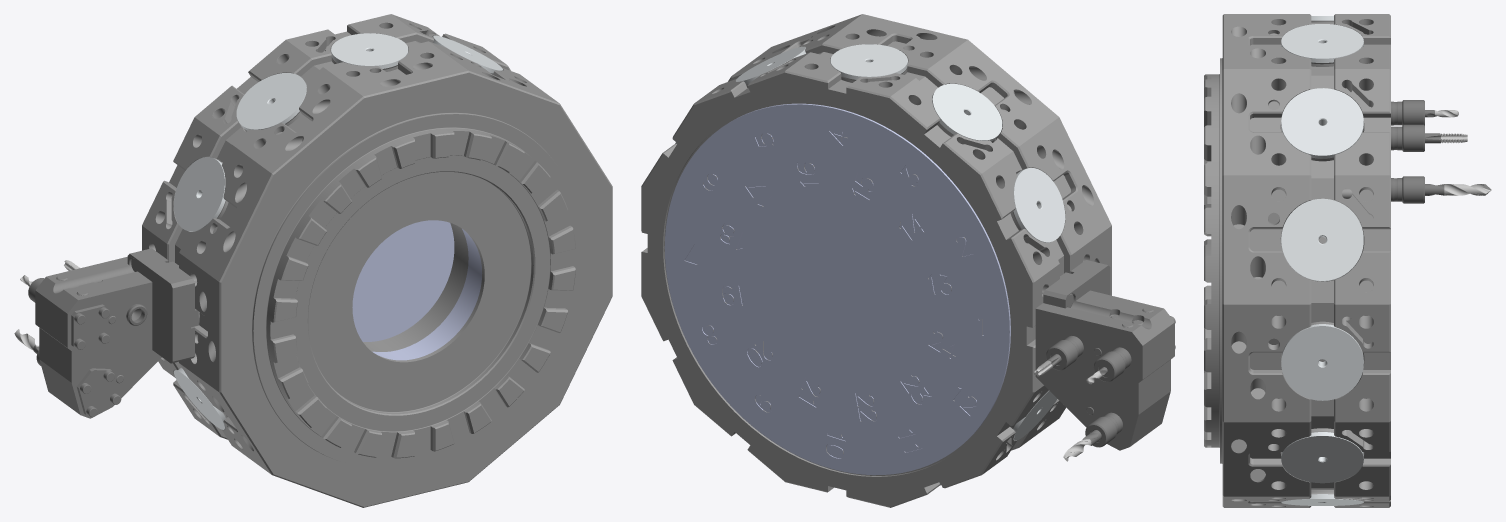
The model's file is haas-assembly.glb.
The picture shows the model from 3 angles, left to right: view 1: azimuth 30°, elevation 25°; view 2: azimuth 150°, elevation 25°; view 3: azimuth 270°, elevation 25°; orthographic projection. The views are drawn at different scales.
Parts seen in each view (by area): view 1: =>[0:1:1:5], EWS_222115_DIN4003:1, Faceplate:1, Plug:2, Plug:1, Plug:12, Plug:4, Plug:11; view 2: Faceplate:1, =>[0:1:1:5], EWS_222115_DIN4003:1, Plug:2, Plug:1, Plug:12, Plug:4, Plug:11, 4592249-ST3 4 X2.500 ER16 MF - Basic-inch:1, 4592249-ST3 4 X2.500 ER16 MF - Basic-inch:3, 4592249-ST3 4 X2.500 ER16 MF - Basic-inch:2; view 3: =>[0:1:1:5], Plug:10, Plug:9, Plug:11, Plug:8, Plug:12, 4592249-ST3 4 X2.500 ER16 MF - Basic-inch:3, 4592249-ST3 4 X2.500 ER16 MF - Basic-inch:2, 4592249-ST3 4 X2.500 ER16 MF - Basic-inch:1, 3384462-SCD 0375-150-375 WPCD - Detail-inch:1, Plug:7, 3460161-TPGN M-8X1.25-A - Detail-inch:1.
Boxes of the visible parts, <box> form: =>[0:1:1:5]: <box>142,14,612,507</box>; EWS_222115_DIN4003:1: <box>35,248,198,418</box>; Faceplate:1: <box>352,220,454,341</box>; Plug:2: <box>173,157,228,231</box>; Plug:1: <box>236,73,306,131</box>; Plug:12: <box>331,33,408,71</box>; Plug:4: <box>174,367,227,429</box>; Plug:11: <box>433,35,502,74</box>; Faceplate:1: <box>664,103,1010,475</box>; =>[0:1:1:5]: <box>641,14,1111,507</box>; EWS_222115_DIN4003:1: <box>1035,260,1175,450</box>; Plug:2: <box>1010,168,1065,242</box>; Plug:1: <box>932,83,1002,142</box>; Plug:12: <box>830,44,907,82</box>; Plug:4: <box>1010,390,1057,440</box>; Plug:11: <box>736,46,805,87</box>; 4592249-ST3 4 X2.500 ER16 MF - Basic-inch:1: <box>1093,347,1131,382</box>; 4592249-ST3 4 X2.500 ER16 MF - Basic-inch:3: <box>1046,336,1083,370</box>; 4592249-ST3 4 X2.500 ER16 MF - Basic-inch:2: <box>1085,412,1122,447</box>; =>[0:1:1:5]: <box>1204,14,1390,507</box>; Plug:10: <box>1281,198,1363,281</box>; Plug:9: <box>1281,321,1363,400</box>; Plug:11: <box>1281,88,1363,161</box>; Plug:8: <box>1281,428,1363,483</box>; Plug:12: <box>1281,24,1363,66</box>; 4592249-ST3 4 X2.500 ER16 MF - Basic-inch:3: <box>1391,124,1424,151</box>; 4592249-ST3 4 X2.500 ER16 MF - Basic-inch:2: <box>1391,176,1424,203</box>; 4592249-ST3 4 X2.500 ER16 MF - Basic-inch:1: <box>1391,100,1424,125</box>; 3384462-SCD 0375-150-375 WPCD - Detail-inch:1: <box>1425,184,1491,195</box>; Plug:7: <box>1281,490,1363,505</box>; 3460161-TPGN M-8X1.25-A - Detail-inch:1: <box>1425,133,1467,143</box>.
Bounding box in the file's own units: 0.4931 × 0.3876 × 0.2301.
